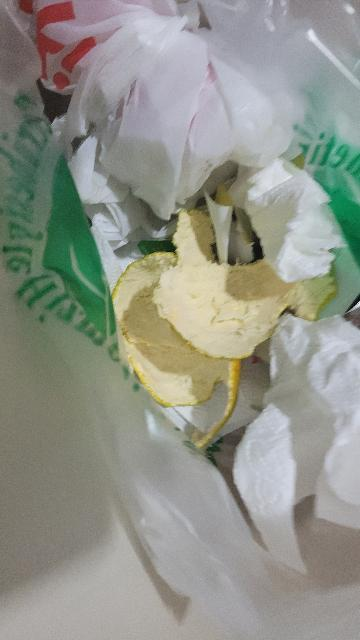Kagit: (227, 404, 312, 572)
Organik: (113, 210, 336, 454)
Plastik: (35, 1, 311, 212)
